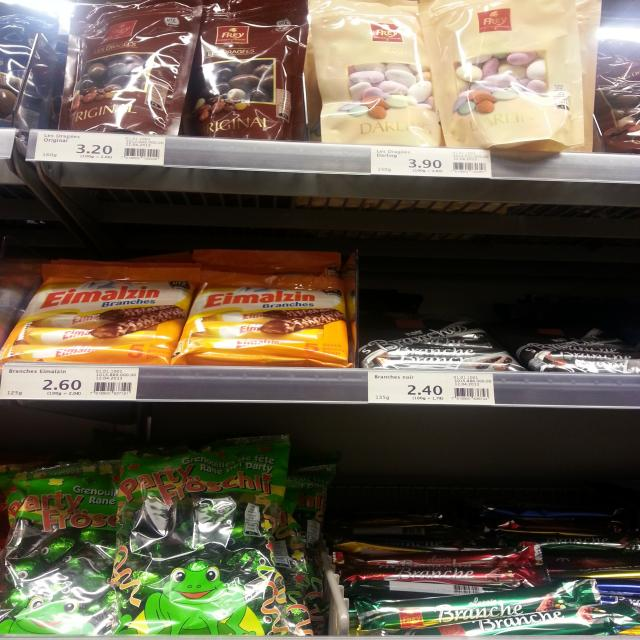Bombons: (110, 419, 320, 640), (0, 473, 129, 640)
chocolate: (428, 0, 597, 154), (0, 269, 204, 375), (303, 0, 449, 147), (168, 271, 362, 370), (66, 0, 204, 138), (198, 0, 312, 140), (343, 575, 614, 631), (364, 318, 530, 370), (517, 325, 640, 378)
